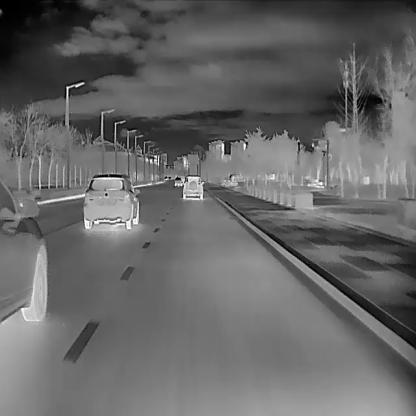car: (0, 174, 48, 327), (83, 172, 141, 229), (182, 175, 204, 200), (174, 176, 182, 186)
